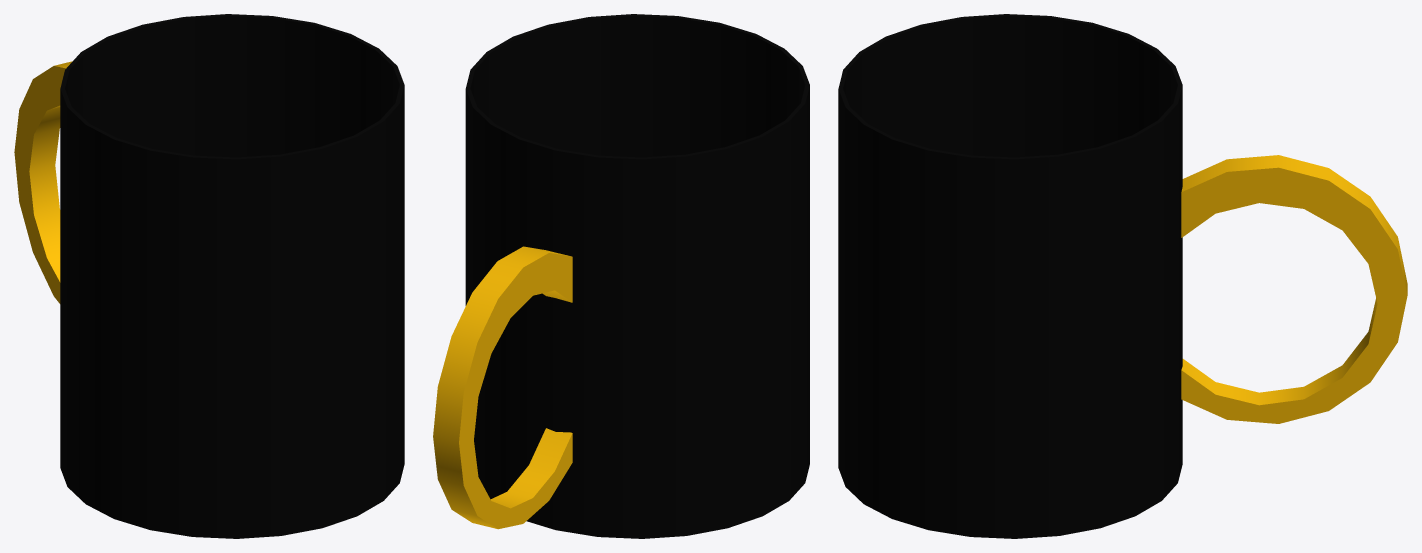
The model's file is mug_04_origin_gt_1.dae.
The picture shows the model from 3 angles, left to right: view 1: azimuth 30°, elevation 25°; view 2: azimuth 150°, elevation 25°; view 3: azimuth 270°, elevation 25°; orthographic projection.
Parts seen in each view (by area): view 1: Hollow_cylinder (×2), Mug_handle; view 2: Hollow_cylinder (×2), Mug_handle; view 3: Hollow_cylinder (×2), Mug_handle.
Boxes of the visible parts, <box> form: Hollow_cylinder (×2): <box>60,14,404,538</box>; Mug_handle: <box>14,61,72,303</box>; Hollow_cylinder (×2): <box>465,14,809,538</box>; Mug_handle: <box>433,246,572,529</box>; Hollow_cylinder (×2): <box>838,14,1182,538</box>; Mug_handle: <box>1181,155,1407,423</box>.
Size of the model in its own units: 3.6 by 5.94 by 4.38.
